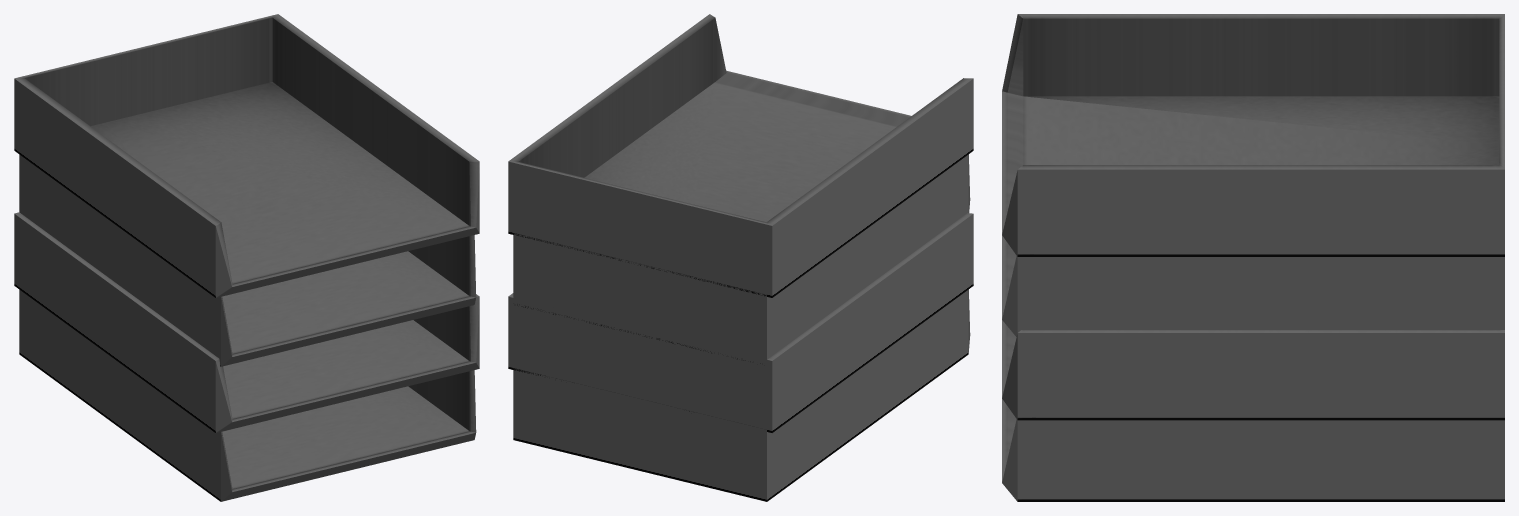
The model's file is tray 2.fbx.
3 views of the same model, side by side, from view 1: azimuth 30°, elevation 25°; view 2: azimuth 150°, elevation 25°; view 3: azimuth 270°, elevation 25° (orthographic). The views are drawn at different scales.
Visible parts, largest first — view 1: tray.001; view 2: tray.001; view 3: tray.001.
Boxes of the visible parts, x1=… form: tray.001: x1=14, y1=14, x2=479, y2=501; tray.001: x1=508, y1=14, x2=973, y2=501; tray.001: x1=1002, y1=14, x2=1504, y2=501.
Bounding box in the file's own units: 72.7 × 72.95 × 99.18.
Materials: 1 (1 with a texture image).
